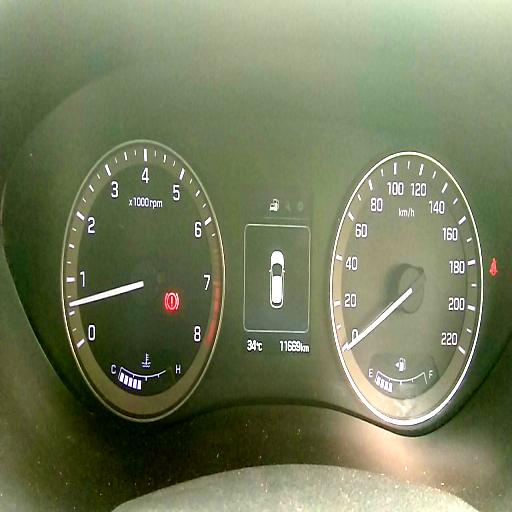belt: (490, 257, 497, 276)
brake_system_fault: (164, 289, 180, 311)
tachometer: (61, 136, 226, 424)
